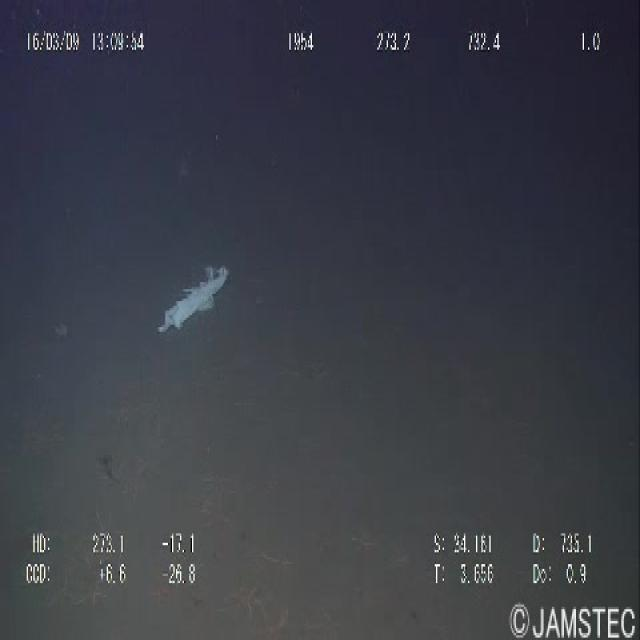plastic: (151, 252, 233, 342)
